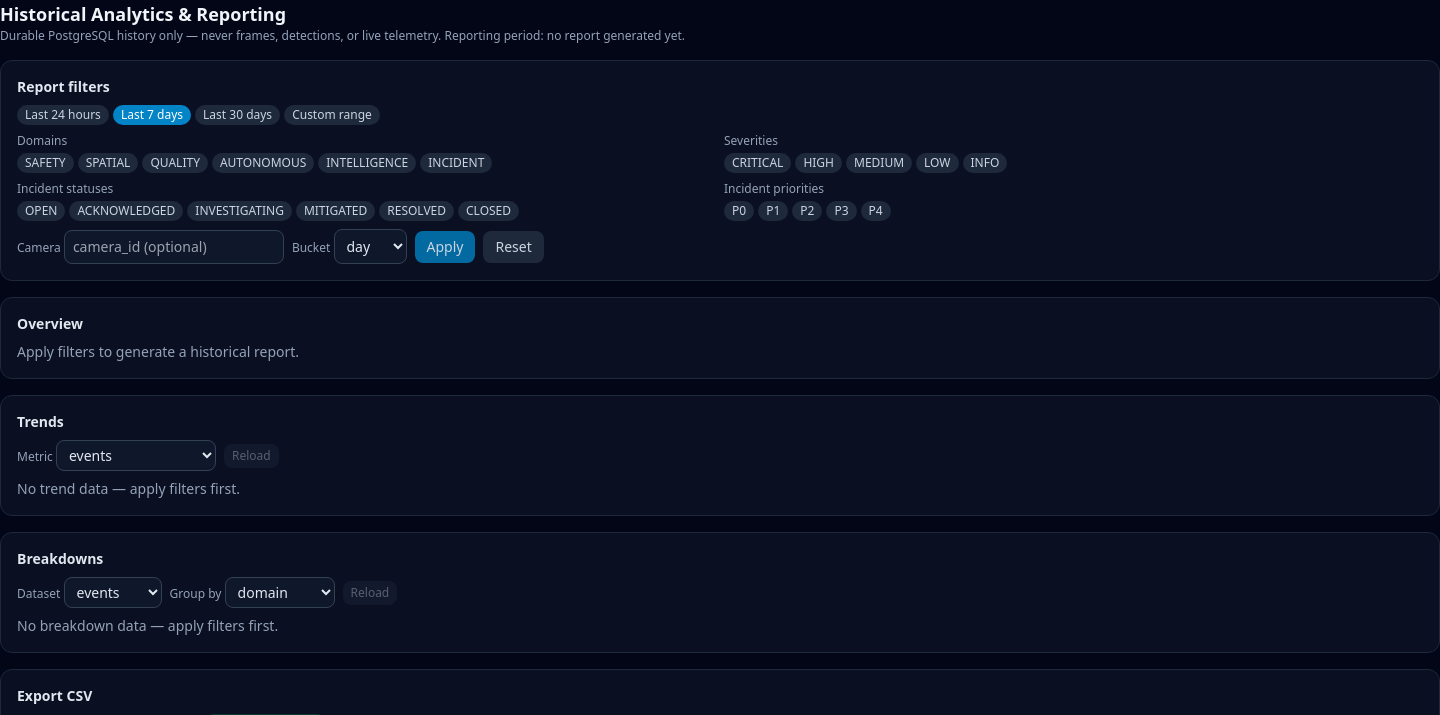
Test case: AnalyticsPage › rejects invalid custom ranges before any request
Click the button "Custom range": (332, 115) [284, 105, 380, 125]
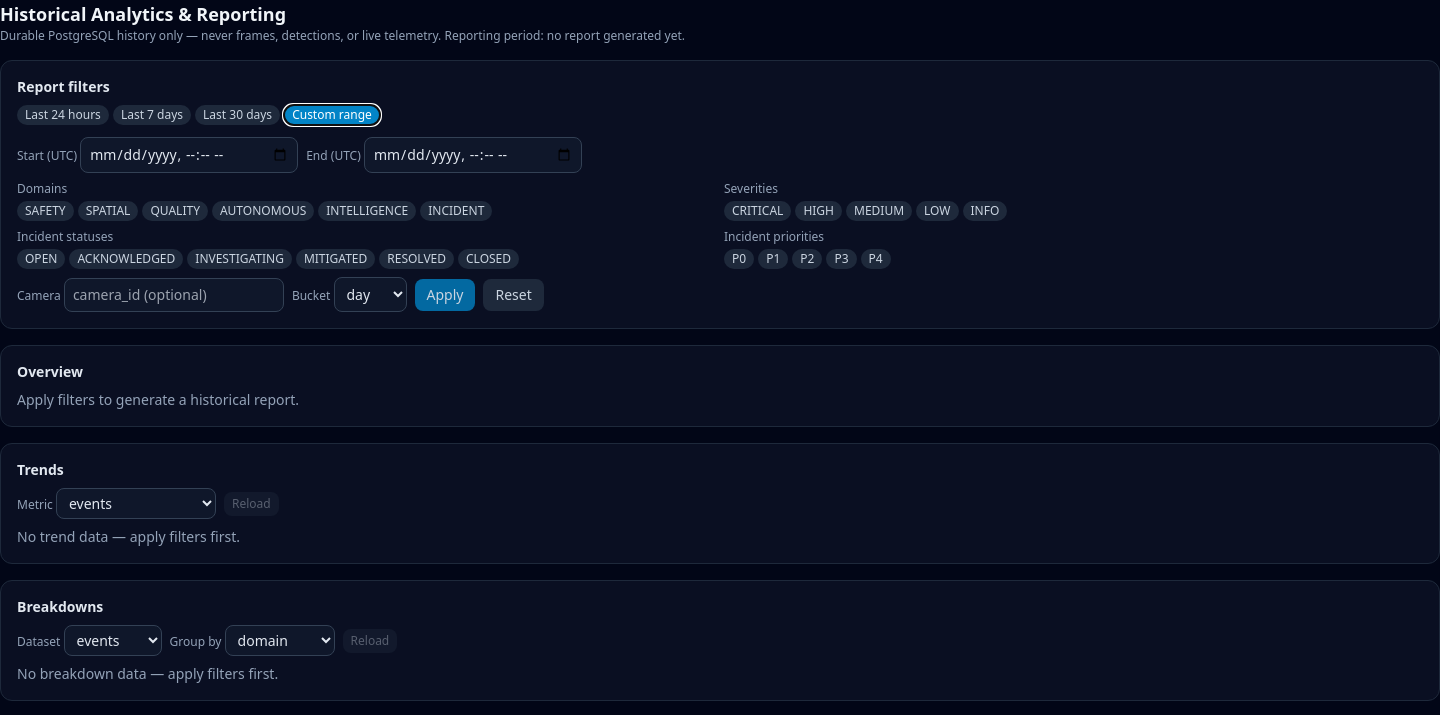
Click the button "Apply": (445, 294) [414, 278, 475, 310]
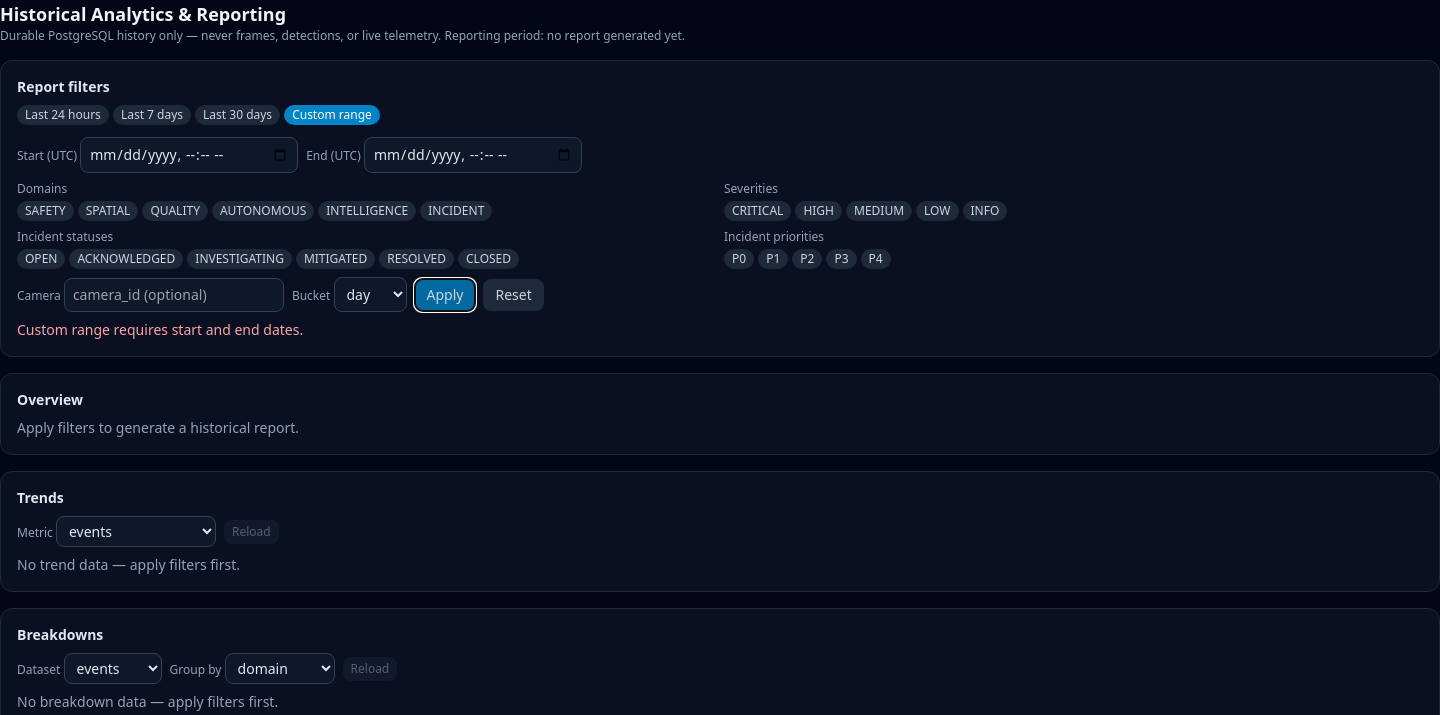
Now the text "Custom range requires start and end dates." is shown, box [17, 320, 303, 339]
